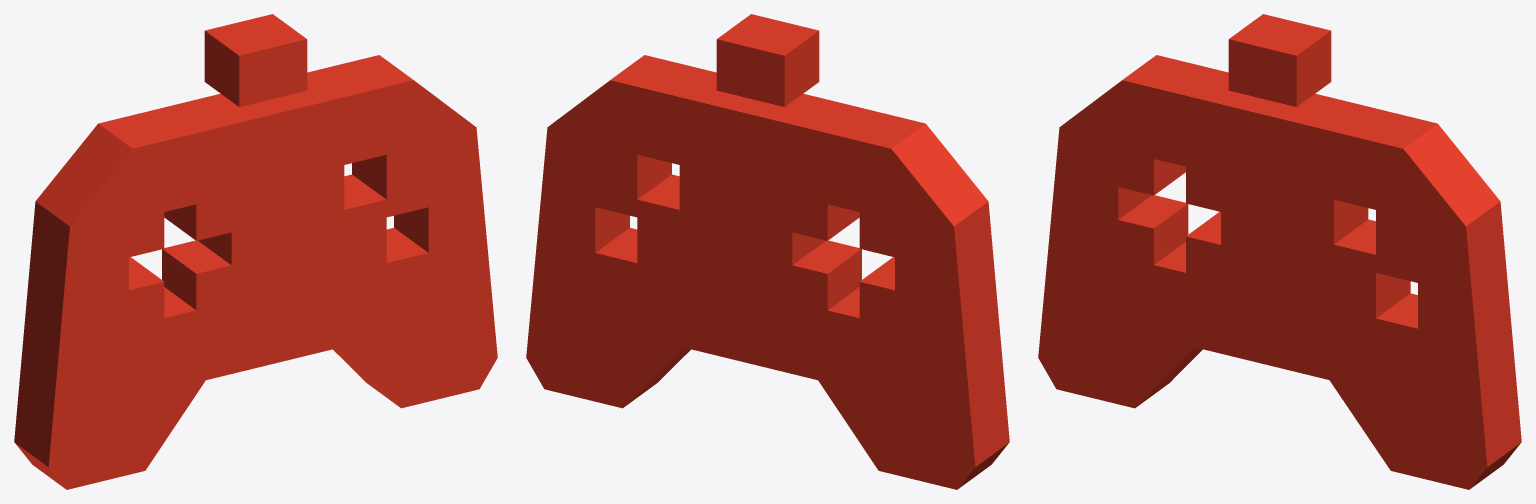
File: Icon_Gamepad.fbx
The picture shows the model from 3 angles, left to right: view 1: azimuth 30°, elevation 25°; view 2: azimuth 150°, elevation 25°; view 3: azimuth 330°, elevation 25°; orthographic projection.
Parts seen in each view (by area): view 1: Icon_Gamepad; view 2: Icon_Gamepad; view 3: Icon_Gamepad.
Boxes of the visible parts, <box> form: Icon_Gamepad: <box>14,14,497,489</box>; Icon_Gamepad: <box>526,14,1009,489</box>; Icon_Gamepad: <box>1038,14,1521,489</box>.
Size of the model in its own units: 90.75 by 75.71 by 12.06.
